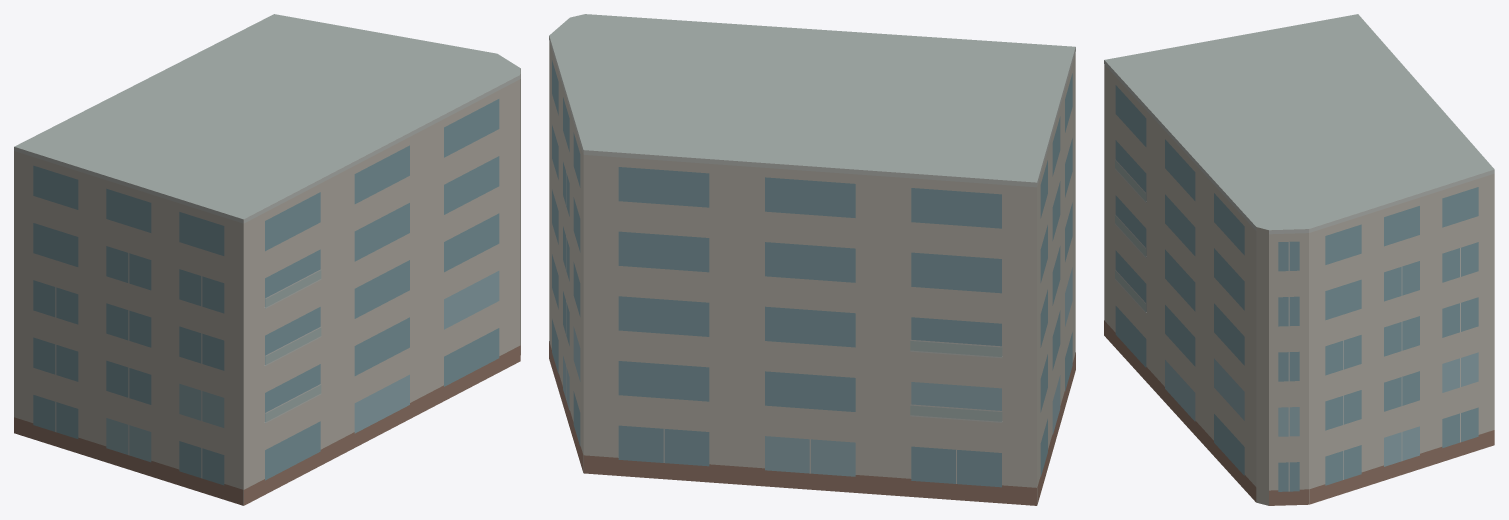
File: survey-upis-32998460.glb
The picture shows the model from 3 angles, left to right: view 1: azimuth 30°, elevation 25°; view 2: azimuth 150°, elevation 25°; view 3: azimuth 270°, elevation 25°; orthographic projection. The views are drawn at different scales.
Visible parts, largest first — view 1: survey-upis-32998460.tmp; view 2: survey-upis-32998460.tmp; view 3: survey-upis-32998460.tmp.
Part boxes in pixels (x1,y1,x2,y2): survey-upis-32998460.tmp: (14,14,520,505); survey-upis-32998460.tmp: (549,14,1075,505); survey-upis-32998460.tmp: (1104,14,1494,505).
Bounding box in the file's own units: 27.93 × 16.6 × 21.32.
